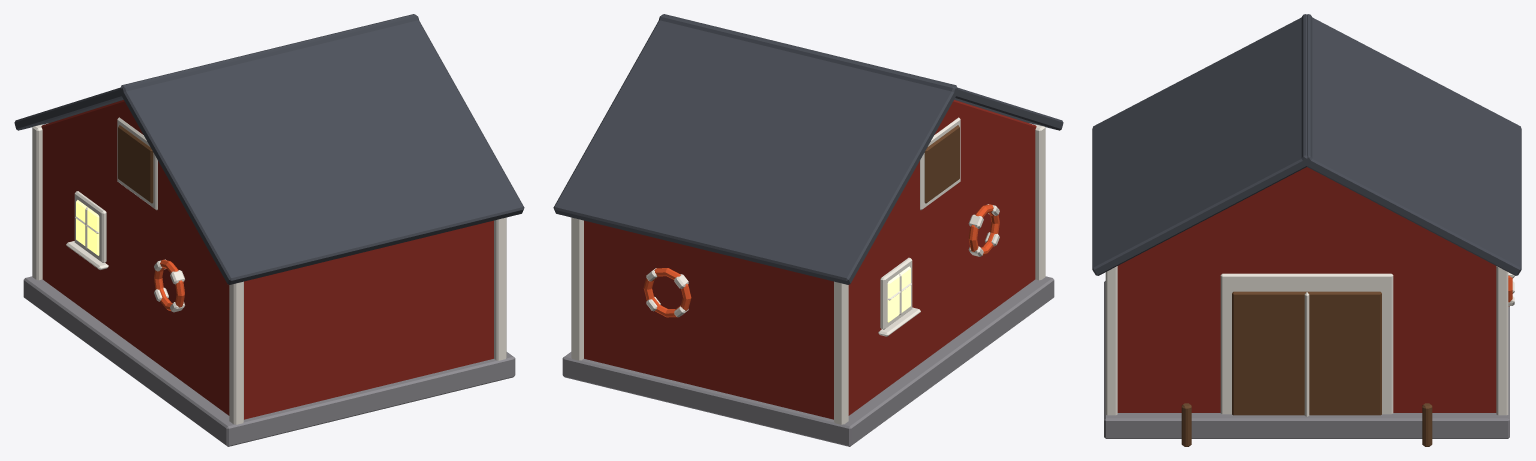
Rendered from sjobod.glb.
3 renders of one model, left to right at view 1: azimuth 30°, elevation 25°; view 2: azimuth 150°, elevation 25°; view 3: azimuth 270°, elevation 25°, orthographic.
Visible parts, largest first — view 1: sjobod; view 2: sjobod; view 3: sjobod.
Part boxes in pixels (left/top/right/bottom): sjobod: left=14, top=14, right=524, bottom=446; sjobod: left=553, top=14, right=1063, bottom=446; sjobod: left=1092, top=14, right=1521, bottom=446.
Size of the model in its own units: 4.92 by 4.19 by 5.71.
